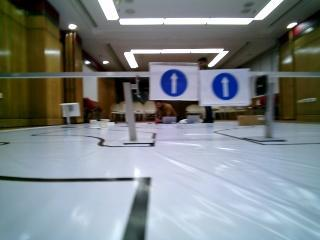straight: (197, 66, 249, 106), (148, 63, 198, 101)
